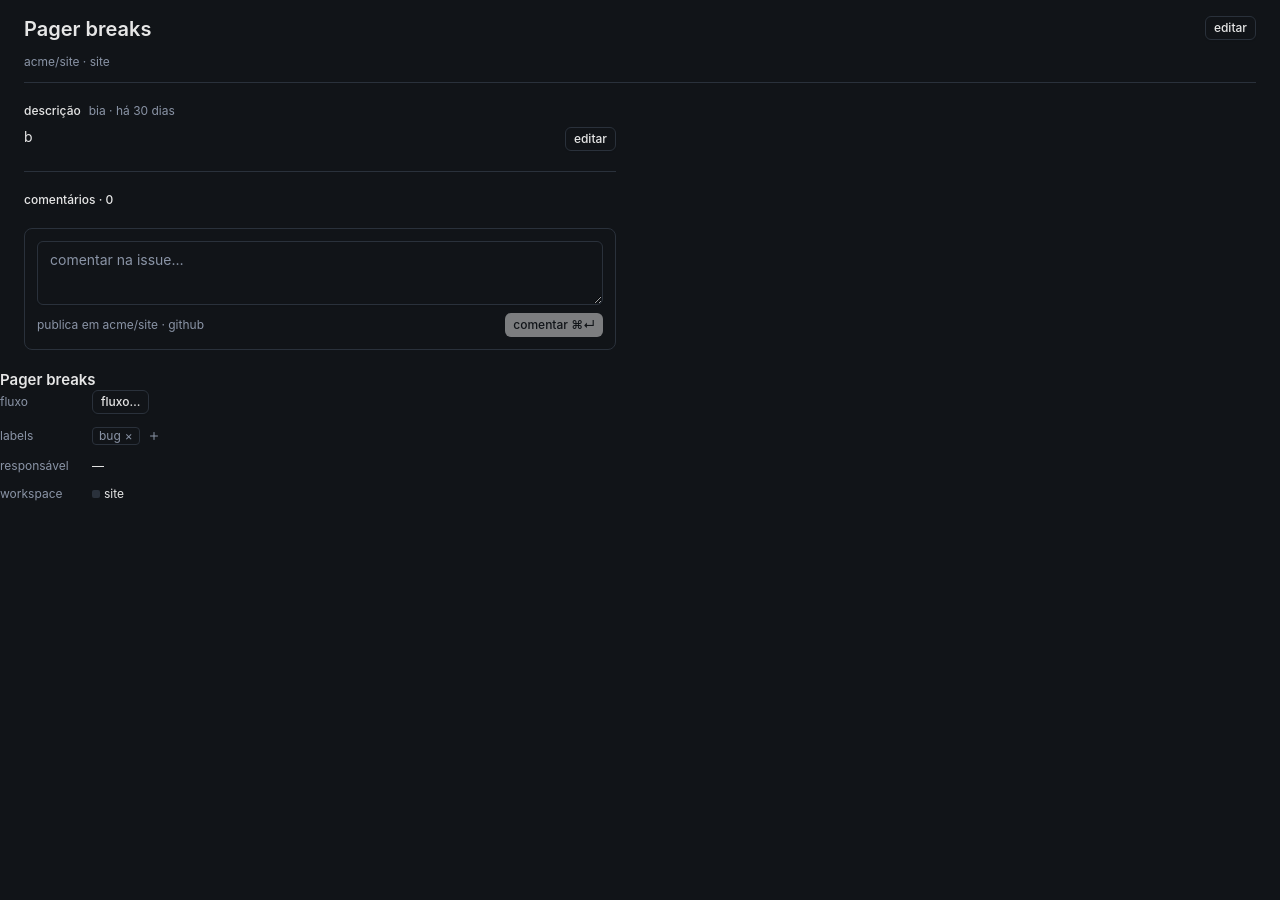
a failed labels read shows a muted error line instead of reading… forever (#757)
Click the button named "adicionar label". click: x=154, y=436
box: [144,426,164,446]
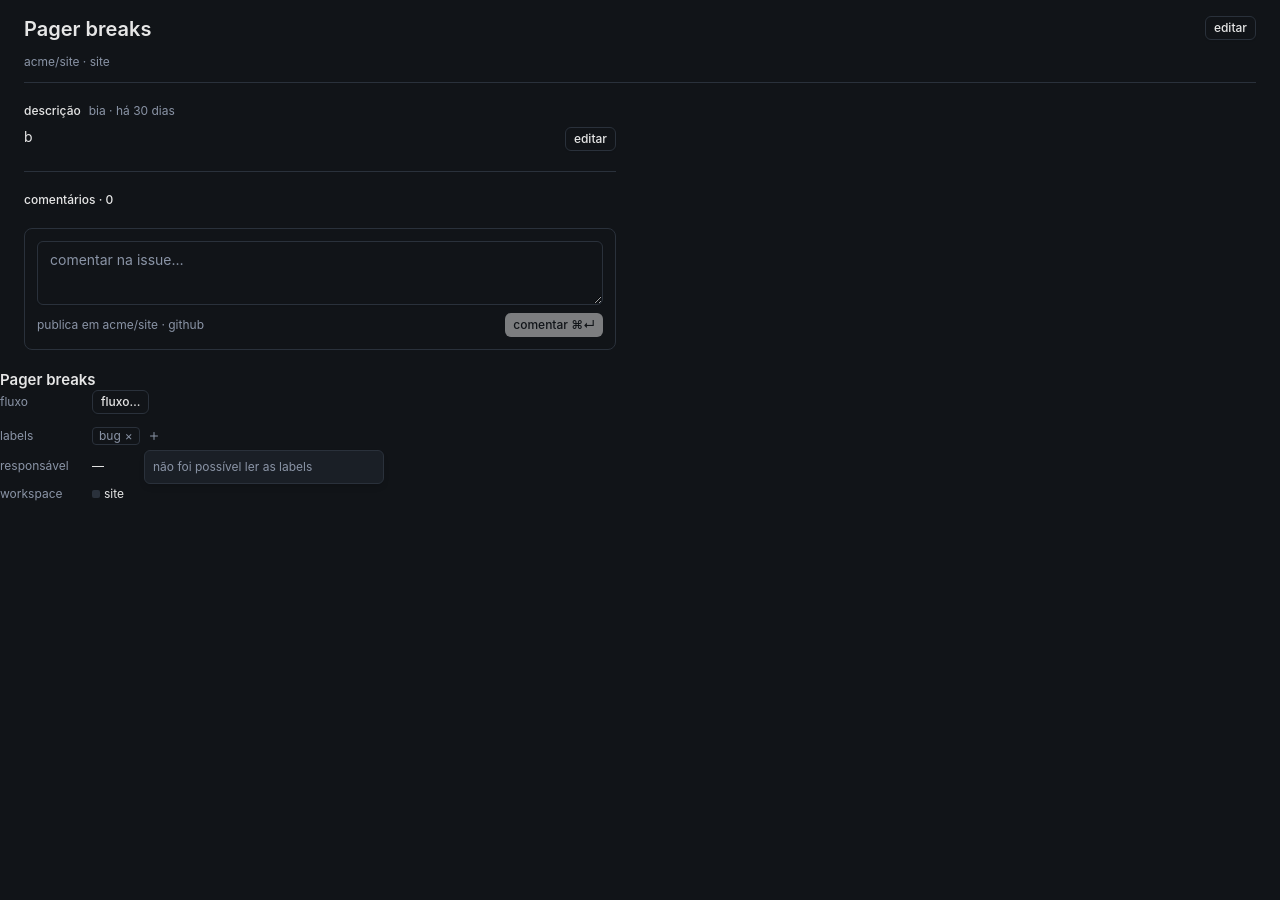
expect the text "não foi possível ler as labels" is shown: met, box [153,459,312,474]
